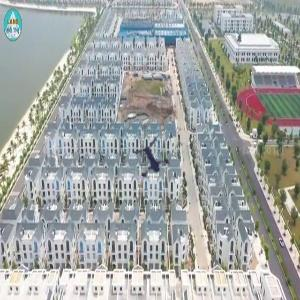drone: (129, 138, 183, 192)
